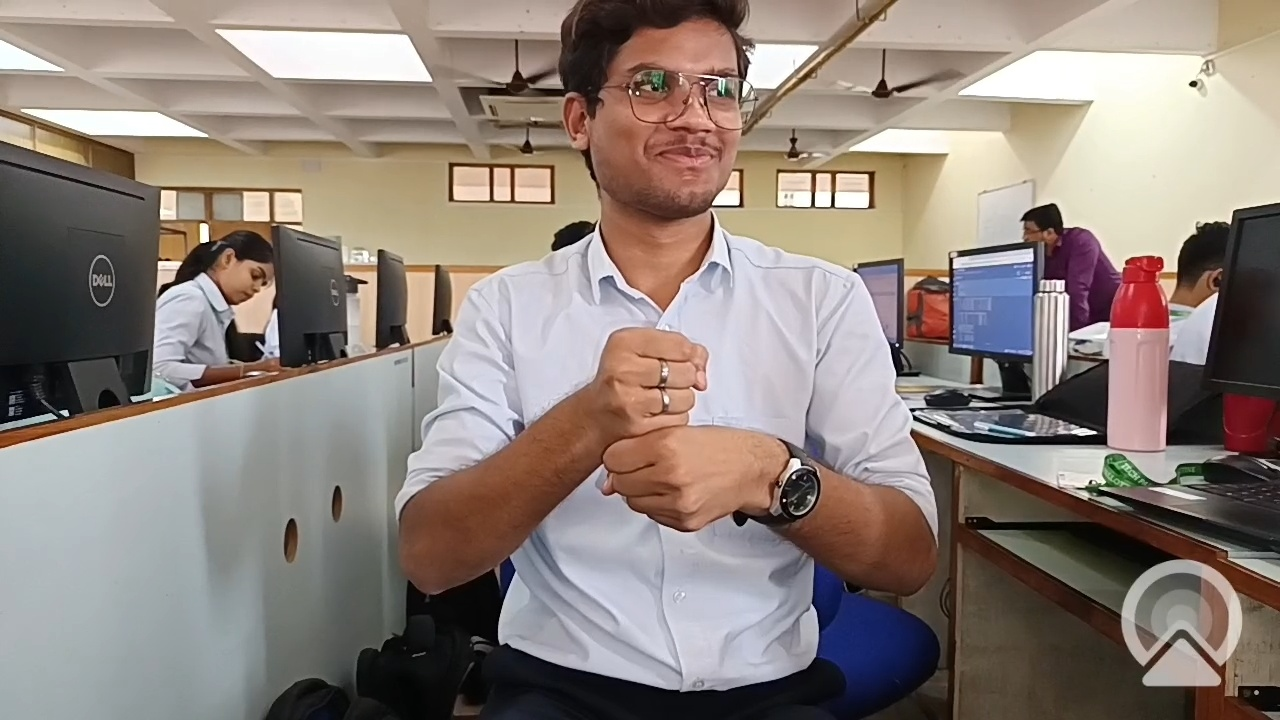G: (556, 309, 828, 582)
